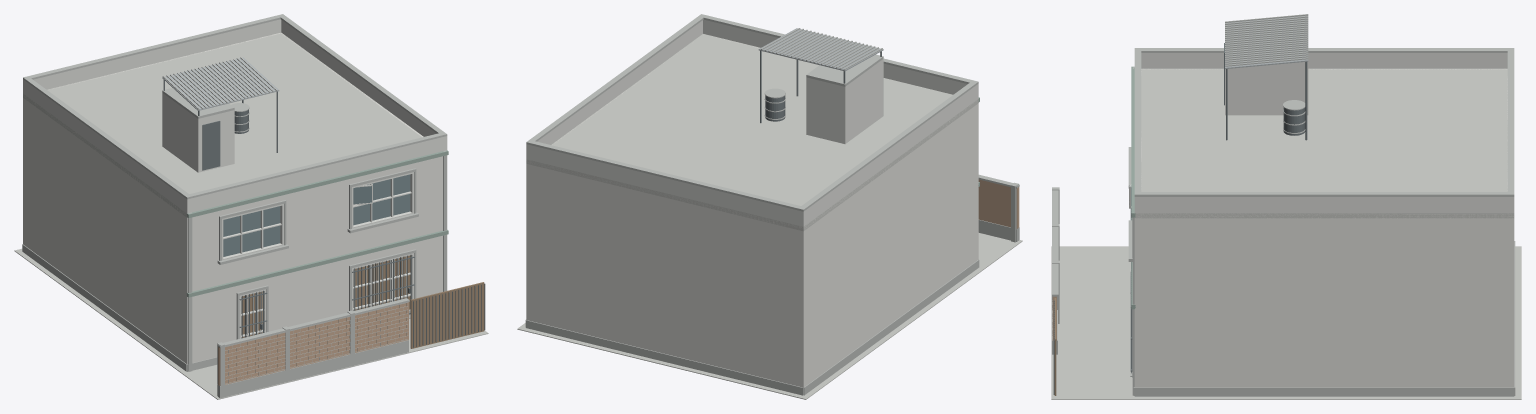
Rendered from 02_courtyard.glb.
The picture shows the model from 3 angles, left to right: view 1: azimuth 30°, elevation 25°; view 2: azimuth 150°, elevation 25°; view 3: azimuth 270°, elevation 25°; orthographic projection. The views are drawn at different scales.
Visible parts, largest first — view 1: roof_slab_11, wall_12, wall_13, parapet_0, boundary_wall_7, parapet_cap_2, window_panel_4, gate_6, rooftop_room_0, floor_band_1, mortar_2, canopy_sheet_8 (+22 smaller); view 2: wall_15, roof_slab_11, wall_12, parapet_0, parapet_cap_2, rooftop_room_0, plinth_2, lot_paving_11, corrugation_2, canopy_sheet_8, boundary_wall_7, wall_14 (+3 smaller); view 3: wall_14, roof_slab_11, lot_paving_11, parapet_0, parapet_cap_2, plinth_2, corrugation_2, rooftop_room_0, canopy_sheet_8, wall_13, floor_band_1, boundary_cap_2 (+3 smaller).
Part boxes in pixels (x1,y1,x2,y2): roof_slab_11: [23, 32, 421, 217]; wall_12: [23, 94, 192, 364]; wall_13: [184, 155, 447, 363]; parapet_0: [23, 19, 447, 213]; boundary_wall_7: [218, 302, 408, 385]; parapet_cap_2: [23, 14, 447, 199]; window_panel_4: [223, 174, 410, 256]; gate_6: [410, 282, 484, 348]; rooftop_room_0: [162, 93, 234, 172]; floor_band_1: [186, 150, 448, 297]; mortar_2: [225, 302, 407, 383]; canopy_sheet_8: [162, 57, 279, 110]; wall_15: [526, 160, 806, 386]; roof_slab_11: [526, 34, 978, 231]; wall_12: [797, 100, 978, 387]; parapet_0: [526, 19, 978, 226]; parapet_cap_2: [526, 14, 978, 211]; rooftop_room_0: [806, 59, 883, 143]; plinth_2: [525, 259, 979, 395]; lot_paving_11: [517, 233, 1022, 399]; corrugation_2: [761, 28, 882, 69]; canopy_sheet_8: [758, 28, 883, 71]; boundary_wall_7: [978, 179, 1019, 228]; wall_14: [526, 63, 663, 320]; wall_14: [1134, 213, 1514, 387]; roof_slab_11: [1135, 68, 1514, 218]; lot_paving_11: [1051, 246, 1521, 399]; parapet_0: [1134, 53, 1514, 213]; parapet_cap_2: [1134, 48, 1514, 196]; plinth_2: [1133, 241, 1515, 396]; corrugation_2: [1225, 14, 1308, 66]; rooftop_room_0: [1225, 61, 1308, 115]; canopy_sheet_8: [1225, 15, 1308, 68]; wall_13: [1134, 71, 1141, 387]; floor_band_1: [1131, 66, 1135, 309]; boundary_cap_2: [1052, 190, 1058, 296].
Bounding box in the file's own units: 10 × 8.07 × 13.
